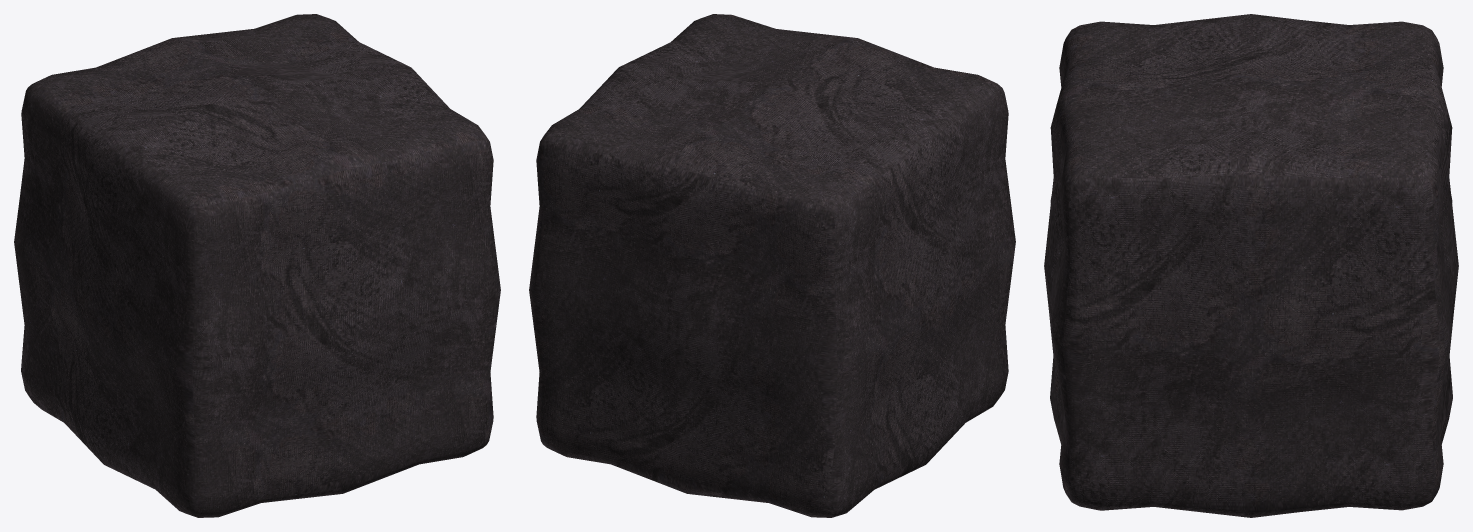
The model's file is ottoman.glb.
3 views of the same model, side by side, from view 1: azimuth 30°, elevation 25°; view 2: azimuth 150°, elevation 25°; view 3: azimuth 270°, elevation 25° (orthographic). The views are drawn at different scales.
Visible parts, largest first — view 1: ottoman; view 2: ottoman; view 3: ottoman.
Boxes of the visible parts, box(x1,y1,x2,y2) form: ottoman: box(14, 14, 500, 517); ottoman: box(529, 14, 1015, 517); ottoman: box(1044, 14, 1458, 517).
Bounding box in the file's own units: 0.4785 × 0.4785 × 0.4785.
Materials: 1 (1 with a texture image).
